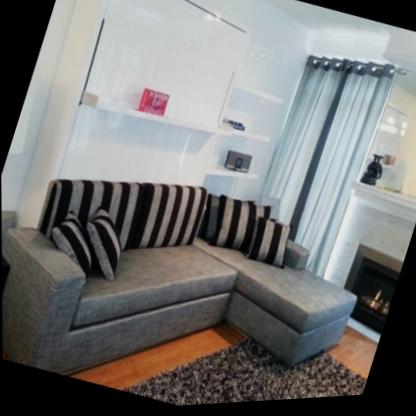Carpet: (122, 344, 365, 408)
Curtains: (260, 53, 412, 281)
Sofa: (14, 142, 317, 400)
